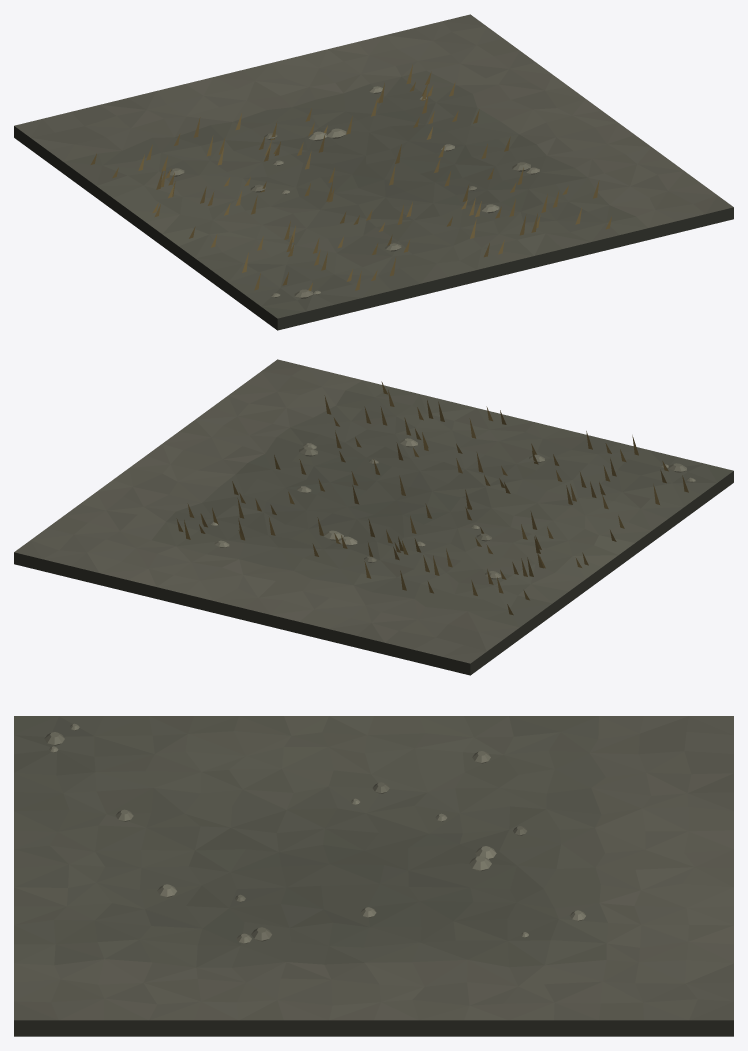
The model's file is CHUNK_abandoned_village__looted_trade_hamlet__01.glb.
The picture shows the model from 3 angles, top to bottom: view 1: azimuth 30°, elevation 25°; view 2: azimuth 150°, elevation 25°; view 3: azimuth 270°, elevation 25°; orthographic projection. The views are drawn at different scales.
Visible parts, largest first — view 1: CHUNK_abandoned_village__looted_trade_hamlet__01; view 2: CHUNK_abandoned_village__looted_trade_hamlet__01; view 3: CHUNK_abandoned_village__looted_trade_hamlet__01.
Boxes of the visible parts, box(x1,y1,x2,y2) form: CHUNK_abandoned_village__looted_trade_hamlet__01: box(14, 14, 733, 330); CHUNK_abandoned_village__looted_trade_hamlet__01: box(14, 359, 733, 675); CHUNK_abandoned_village__looted_trade_hamlet__01: box(14, 716, 733, 1036).
Bounding box in the file's own units: 8 × 0.5563 × 8.
